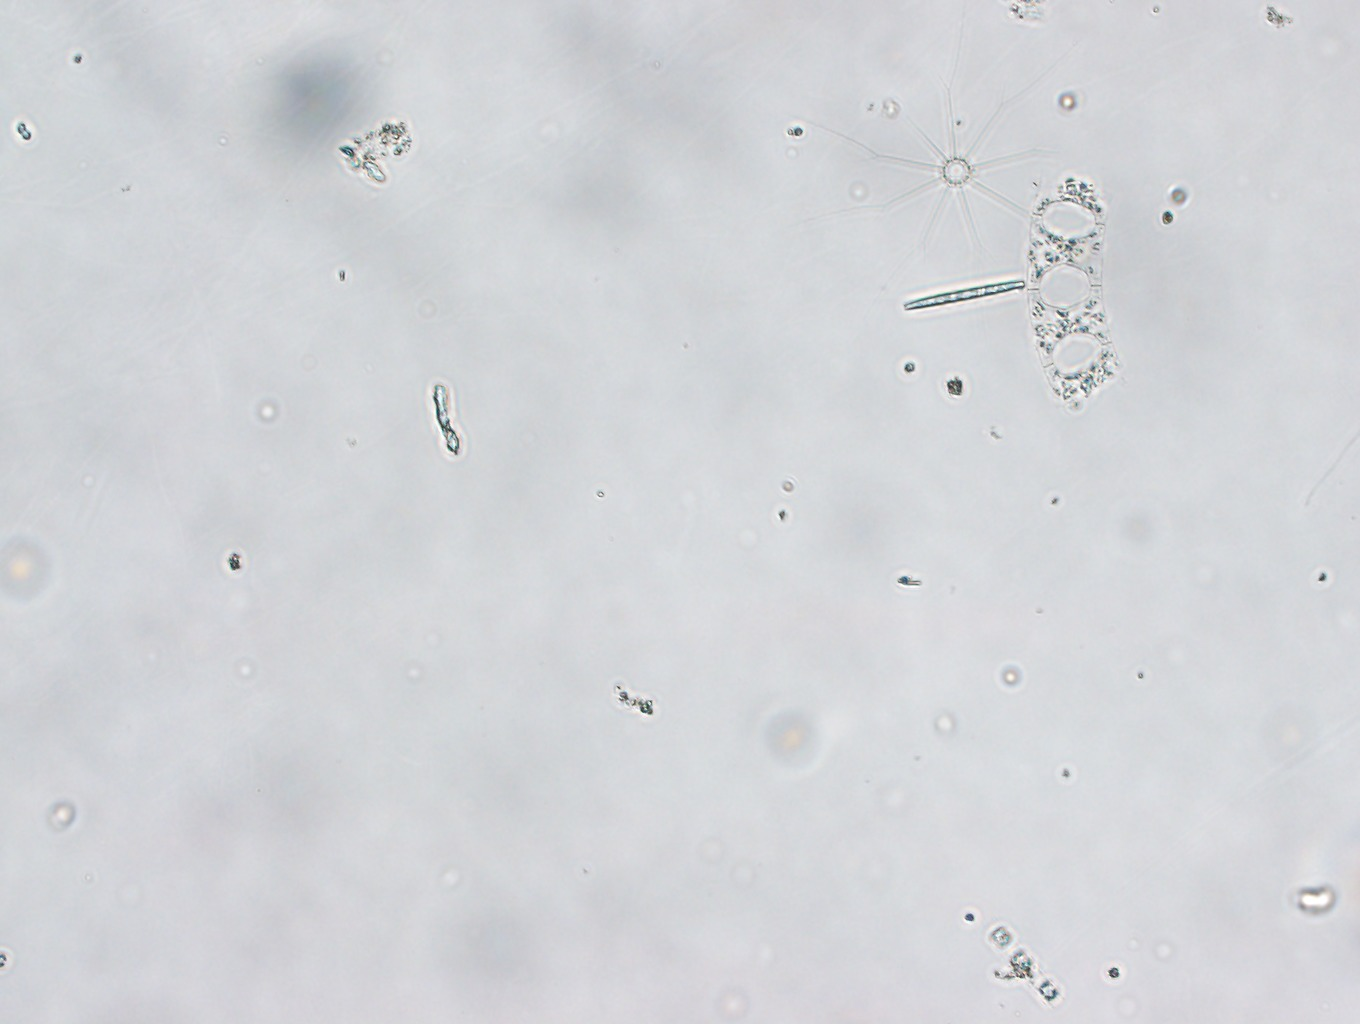bacteriastrum: (792, 22, 1084, 280)
eucampia: (1015, 161, 1130, 419)
skeletonema: (978, 916, 1059, 1001)
